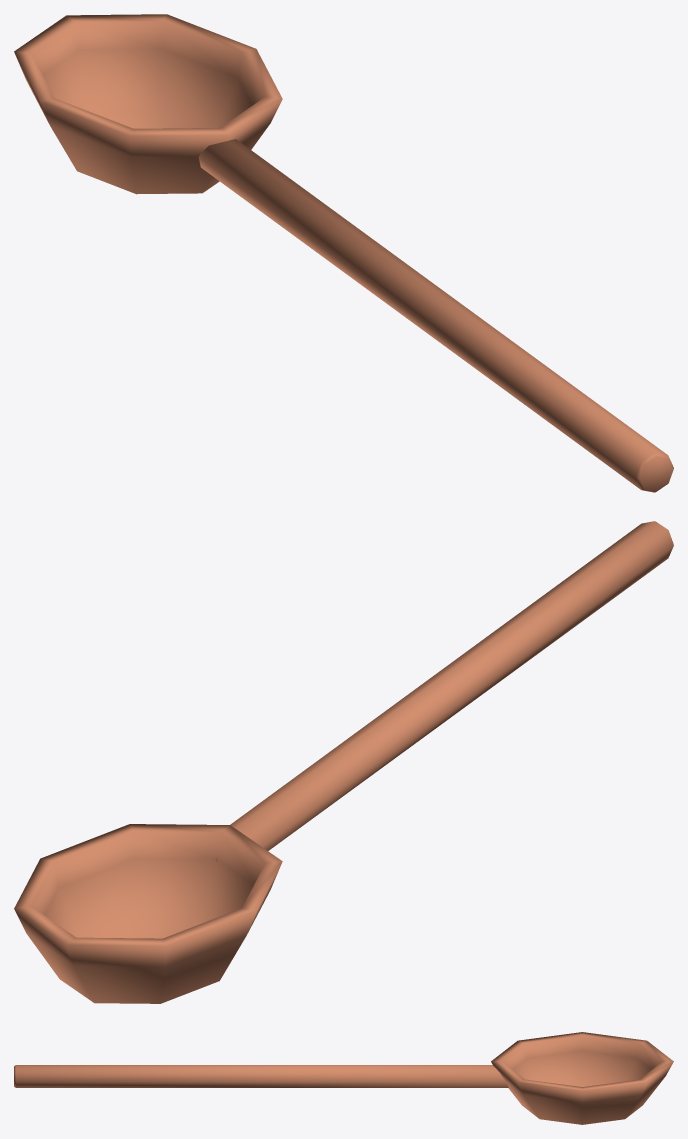
The model's file is cuillere_bois.fbx.
The picture shows the model from 3 angles, top to bottom: view 1: azimuth 30°, elevation 25°; view 2: azimuth 150°, elevation 25°; view 3: azimuth 270°, elevation 25°; orthographic projection. The views are drawn at different scales.
Visible parts, largest first — view 1: polySurface2, polySurface1; view 2: polySurface2, polySurface1; view 3: polySurface2, polySurface1.
Part boxes in pixels (bbox=[...]): polySurface2: bbox=[14, 14, 282, 194]; polySurface1: bbox=[198, 139, 673, 492]; polySurface2: bbox=[14, 824, 282, 1003]; polySurface1: bbox=[215, 521, 673, 861]; polySurface2: bbox=[491, 1032, 673, 1124]; polySurface1: bbox=[14, 1065, 508, 1087].
Bounding box in the file's own units: 0.9751 × 0.4007 × 4.61.
Materials: 1 (1 with a texture image).
